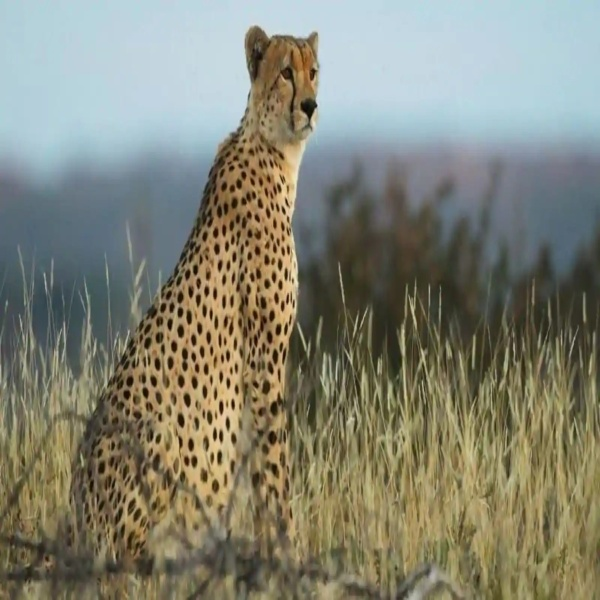Cheetah: (67, 21, 326, 568)
